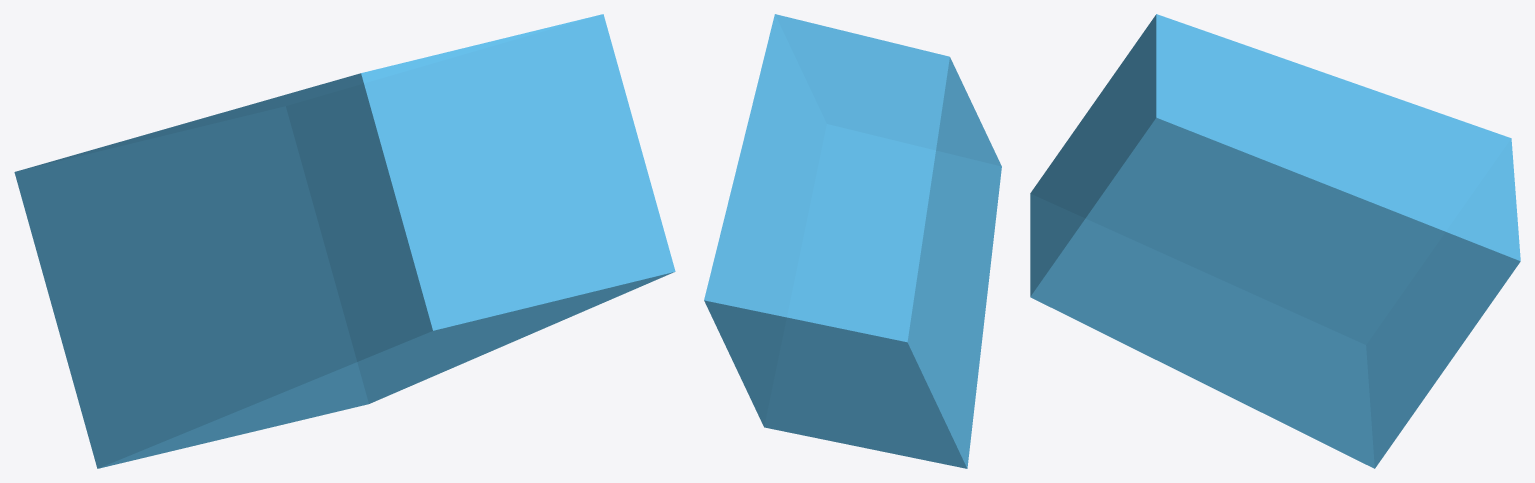
The model's file is Event_421364160_HBrechit_8.fbx.
3 renders of one model, left to right at view 1: azimuth 30°, elevation 25°; view 2: azimuth 150°, elevation 25°; view 3: azimuth 270°, elevation 25°, orthographic. The views are drawn at different scales.
Visible parts, largest first — view 1: Model; view 2: Model; view 3: Model.
Boxes of the visible parts, x1,y1,x2,y2 form: Model: (14, 14, 675, 468); Model: (704, 14, 1001, 468); Model: (1030, 14, 1520, 468).
Size of the model in its own units: 0.6684 by 0.7514 by 0.8389.
